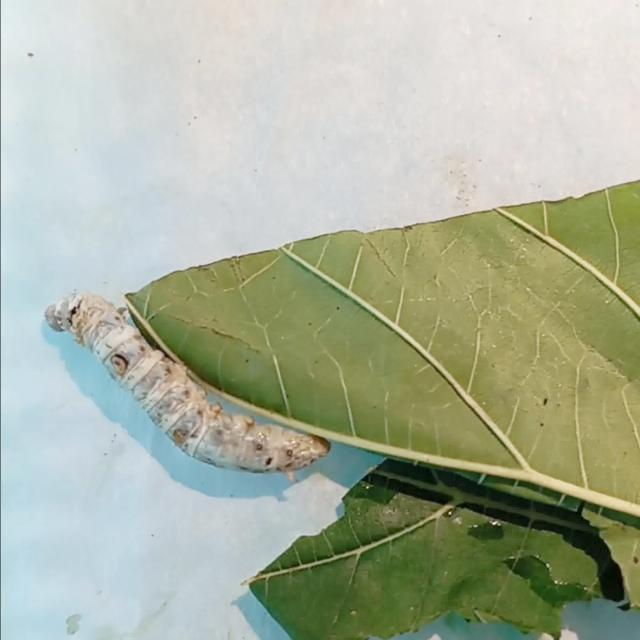Grasserie: (37, 271, 344, 501)
